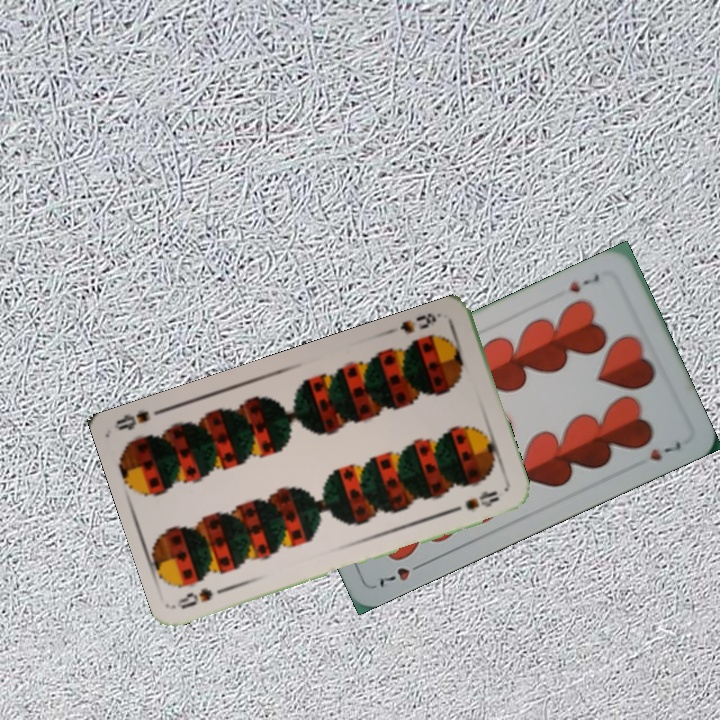H7: (375, 558, 428, 591), (565, 270, 602, 296)
S8: (174, 582, 232, 612), (395, 309, 444, 336)
